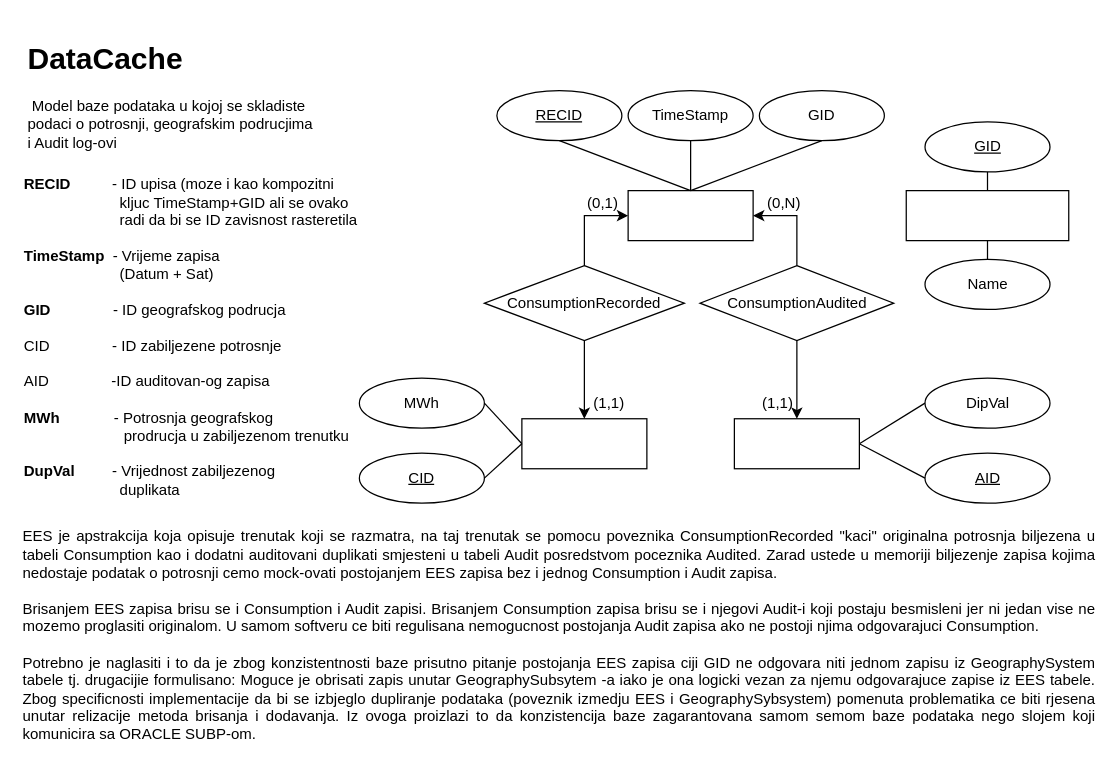
Image size: 1118x765. Some labels were removed from this diagram. Here are the shapes that lost their labels. From the top down, the box of each, then its label:
(627, 189, 753, 241): EES
(905, 189, 1069, 241): GeographySubsystem
(521, 418, 647, 469): Consumption
(733, 418, 859, 469): Audit
